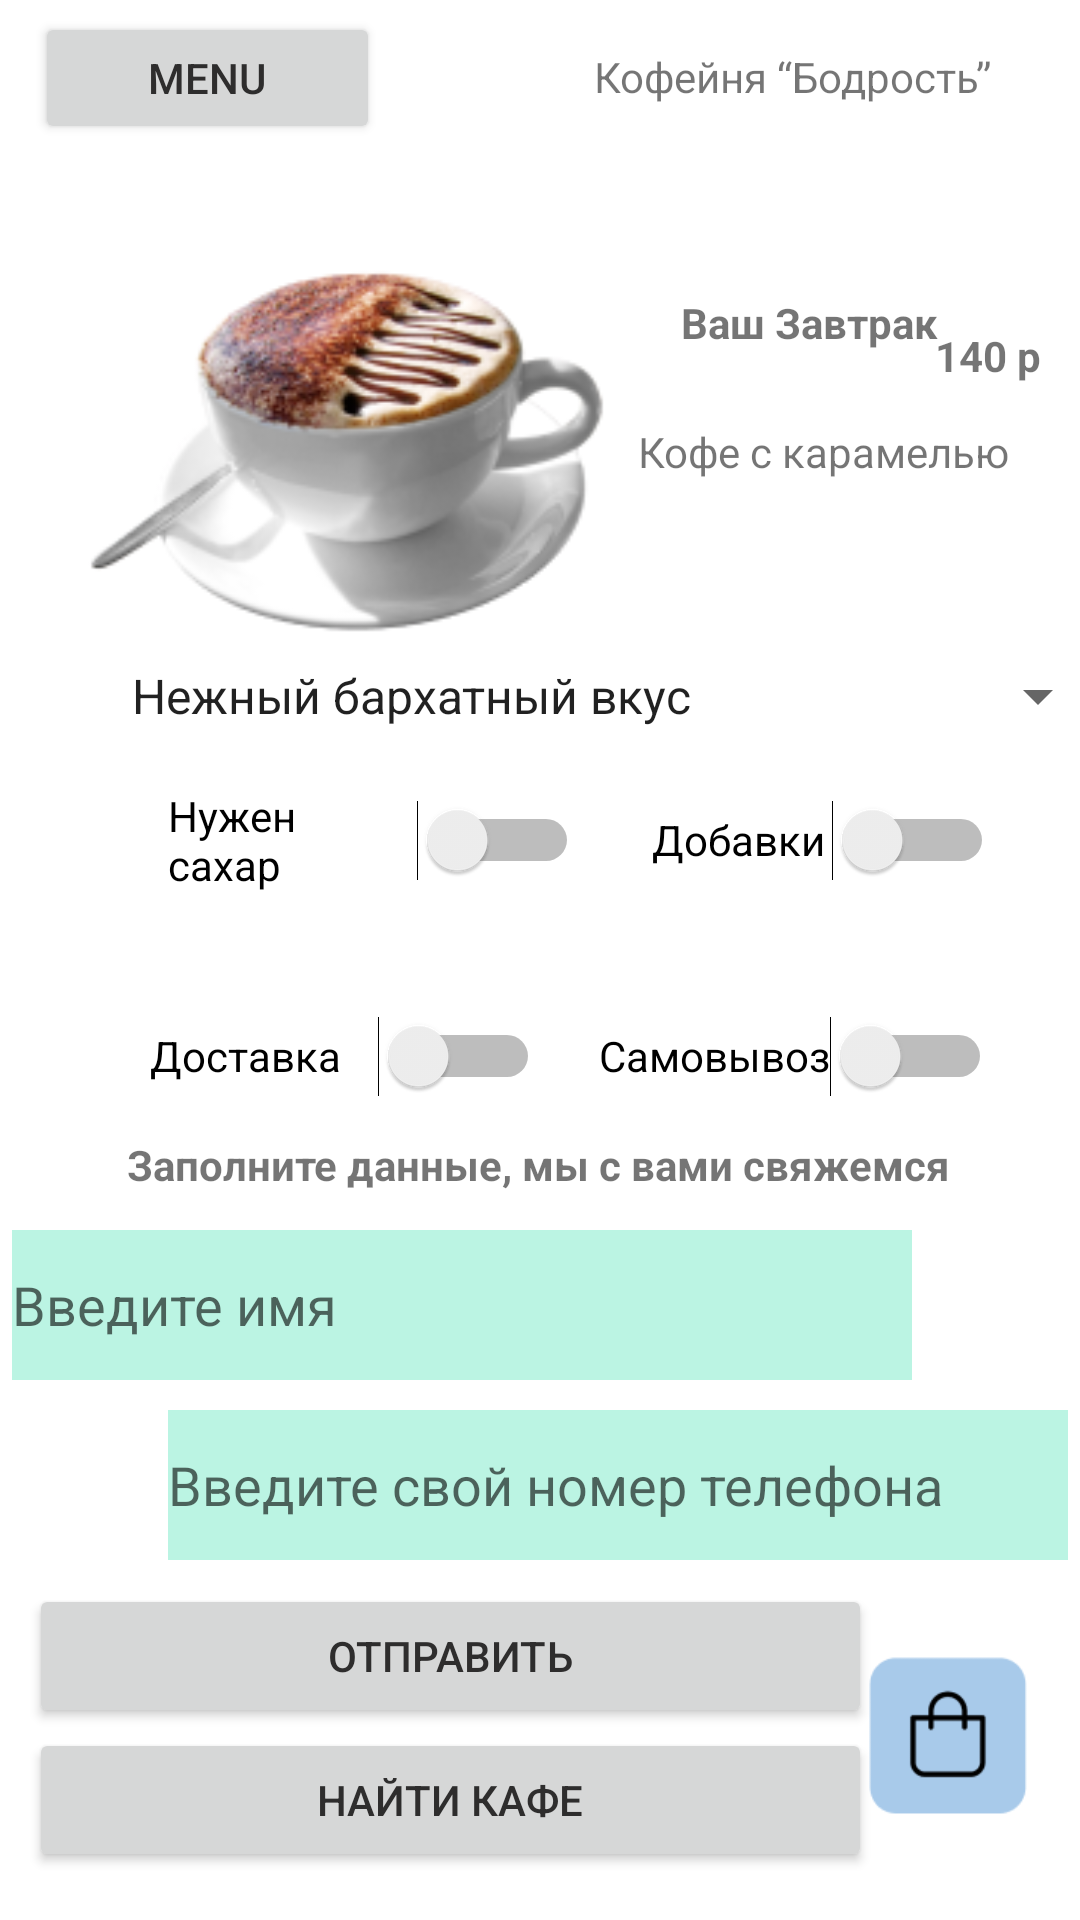

Named icons in this screenshot (1080px x 1920px) and their centers, point (x, y):
buttonzakaz: point (947, 1735)
